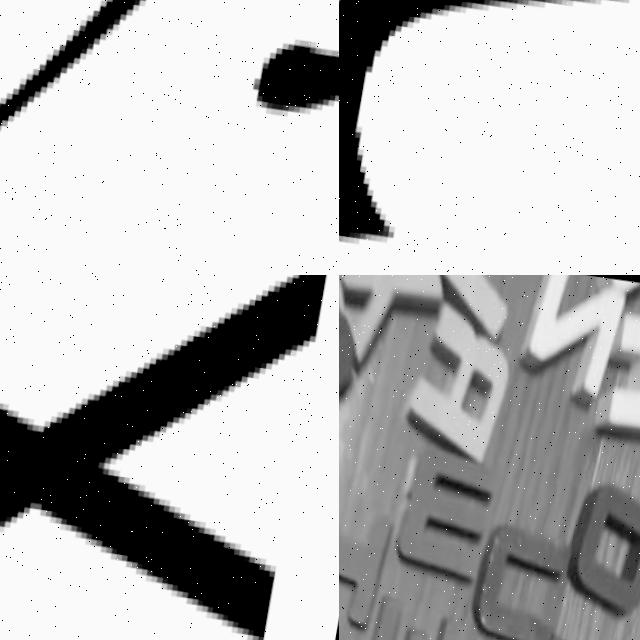2: (0, 0, 339, 275)
B: (339, 275, 369, 434)
E: (351, 591, 467, 640)
H: (586, 299, 640, 457)
I: (339, 499, 394, 627)
J: (339, 0, 640, 275)
L: (422, 275, 517, 337)
O: (565, 485, 640, 606)
R: (404, 304, 517, 462)
U: (466, 515, 581, 640)
W: (392, 441, 497, 590)
X: (0, 275, 339, 640), (339, 275, 444, 367)
Z: (512, 275, 626, 399)
